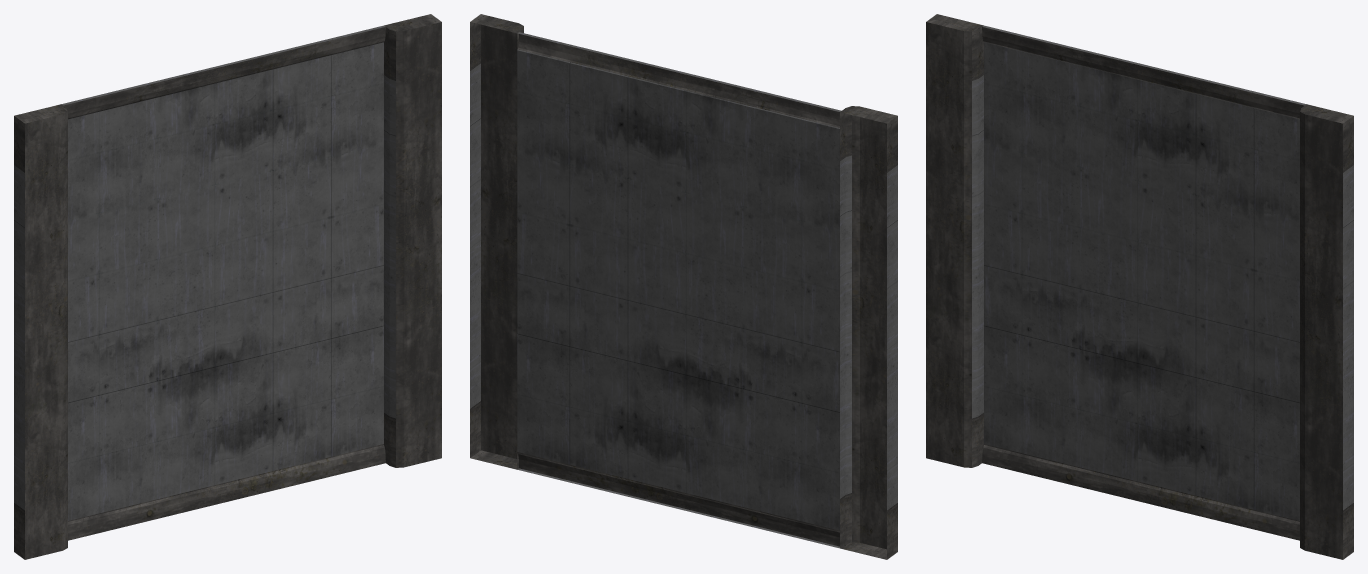
Rendered from Wall_concrete.fbx.
3 renders of one model, left to right at view 1: azimuth 30°, elevation 25°; view 2: azimuth 150°, elevation 25°; view 3: azimuth 330°, elevation 25°, orthographic.
Parts seen in each view (by area): view 1: Wall_blank; view 2: Wall_blank; view 3: Wall_blank.
Boxes of the visible parts, x1,y1,x2,y2 form: Wall_blank: [14, 14, 441, 559]; Wall_blank: [470, 14, 897, 559]; Wall_blank: [926, 14, 1353, 559].
Size of the model in its own units: 919 by 919 by 41.47.
1 material, 1 textured.
